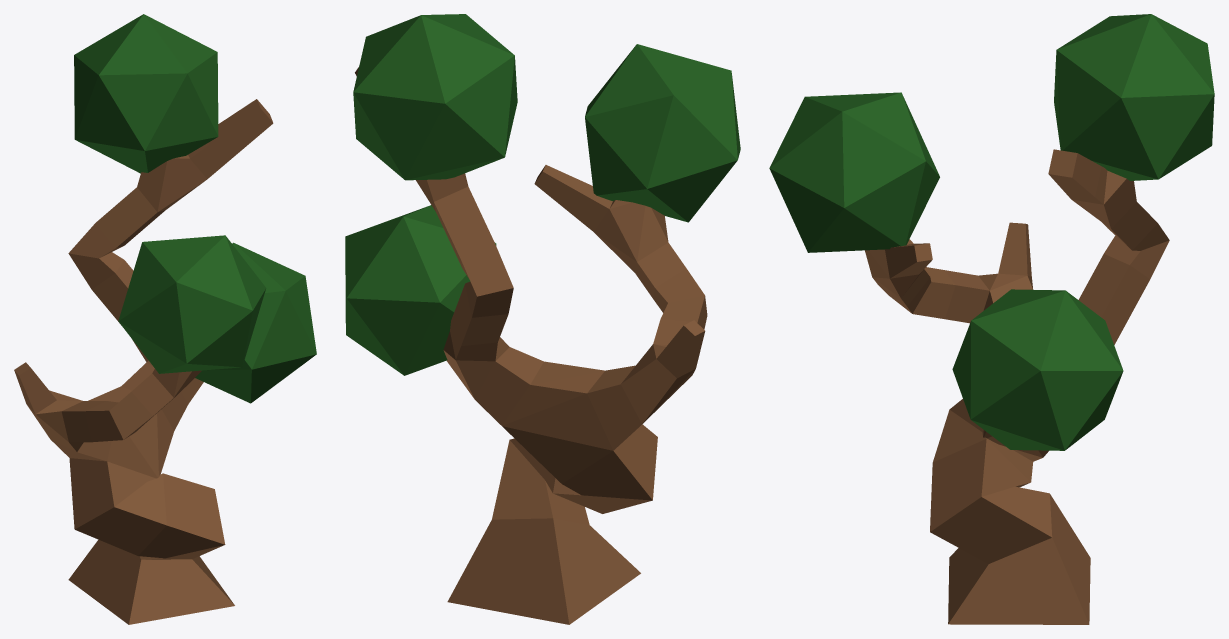
The model's file is Mesa_Tree_BIg_Fluff_02.fbx.
3 views of the same model, side by side, from view 1: azimuth 30°, elevation 25°; view 2: azimuth 150°, elevation 25°; view 3: azimuth 270°, elevation 25° (orthographic). The views are drawn at different scales.
Parts seen in each view (by area): view 1: Cube.003, Icosphere.020, Icosphere.021, Icosphere.017; view 2: Cube.003, Icosphere.020, Icosphere.021, Icosphere.017; view 3: Cube.003, Icosphere.020, Icosphere.017, Icosphere.021.
Boxes of the visible parts, bbox=[...] form: Cube.003: bbox=[14, 99, 273, 624]; Icosphere.020: bbox=[74, 14, 218, 173]; Icosphere.021: bbox=[118, 235, 266, 373]; Icosphere.017: bbox=[195, 242, 316, 403]; Cube.003: bbox=[355, 67, 707, 624]; Icosphere.020: bbox=[353, 14, 517, 180]; Icosphere.021: bbox=[585, 44, 740, 222]; Icosphere.017: bbox=[345, 205, 496, 375]; Cube.003: bbox=[865, 149, 1169, 624]; Icosphere.020: bbox=[1054, 14, 1214, 180]; Icosphere.017: bbox=[952, 289, 1123, 450]; Icosphere.021: bbox=[769, 92, 939, 252].
Bounding box in the file's own units: 860 × 1451 × 962.
